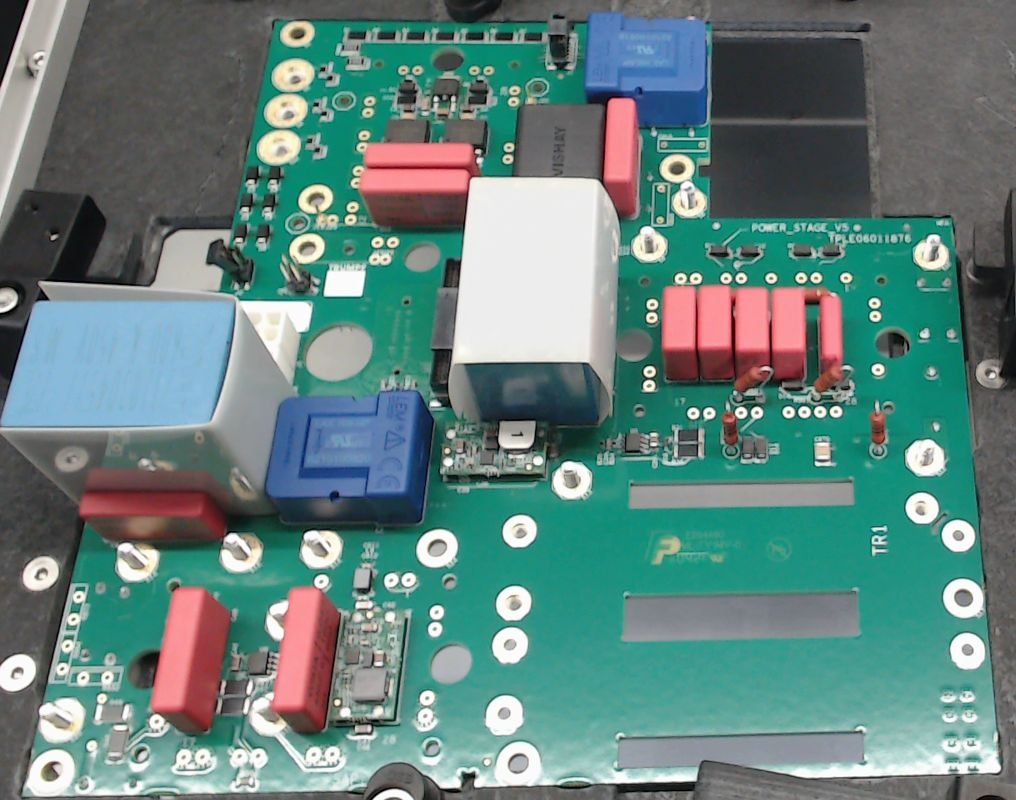comp1: (266, 390, 434, 527), (586, 10, 709, 132)
comp2: (150, 586, 229, 737), (271, 585, 336, 734), (81, 494, 225, 549), (358, 168, 472, 228), (603, 99, 640, 218), (769, 285, 805, 381), (698, 283, 733, 381), (662, 285, 697, 382), (735, 285, 767, 380), (362, 144, 477, 166), (815, 295, 844, 376)
comp3: (514, 104, 606, 181)
comp4: (3, 280, 300, 519), (448, 177, 622, 428)
